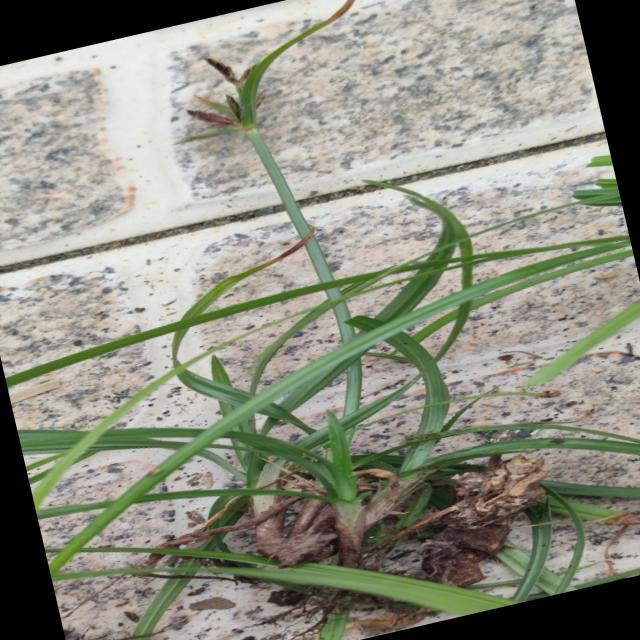cyperus: (128, 0, 411, 197)
